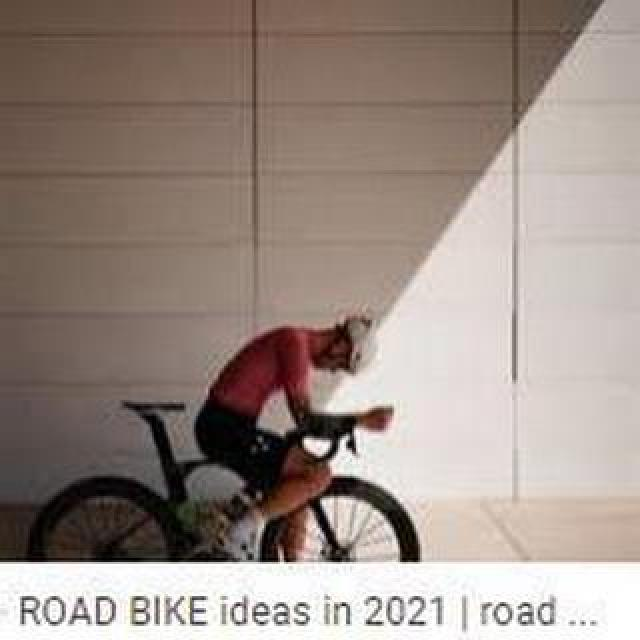MC-Bike: (180, 312, 406, 556)
Person: (28, 394, 424, 562)
